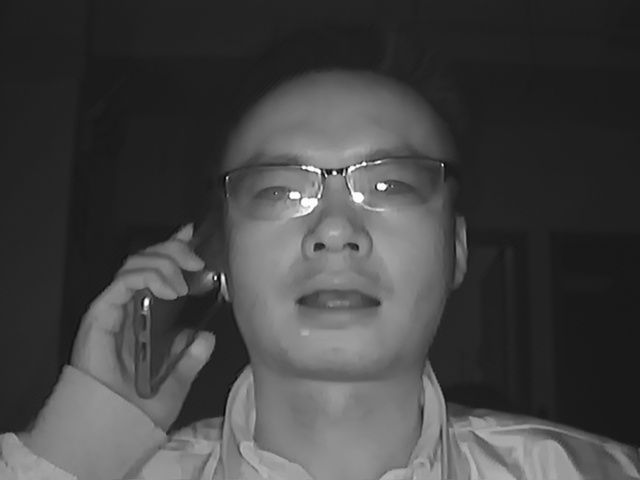hand: (72, 223, 217, 420)
